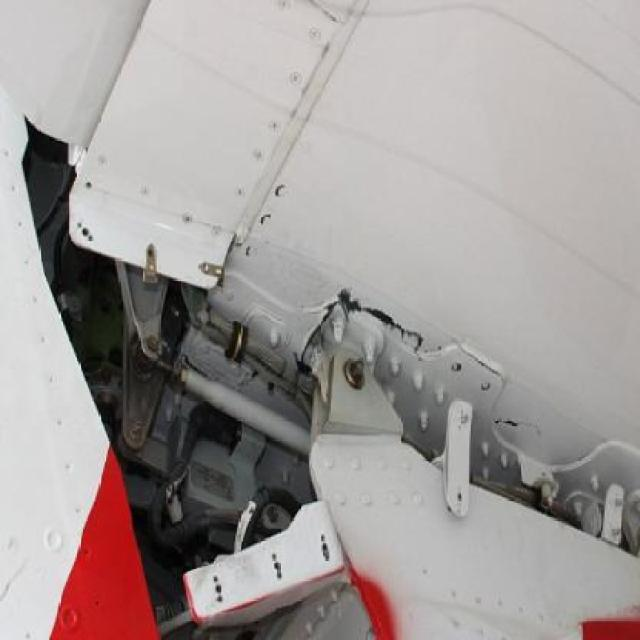crack: (299, 289, 427, 376), (449, 337, 509, 386), (493, 414, 541, 437)
